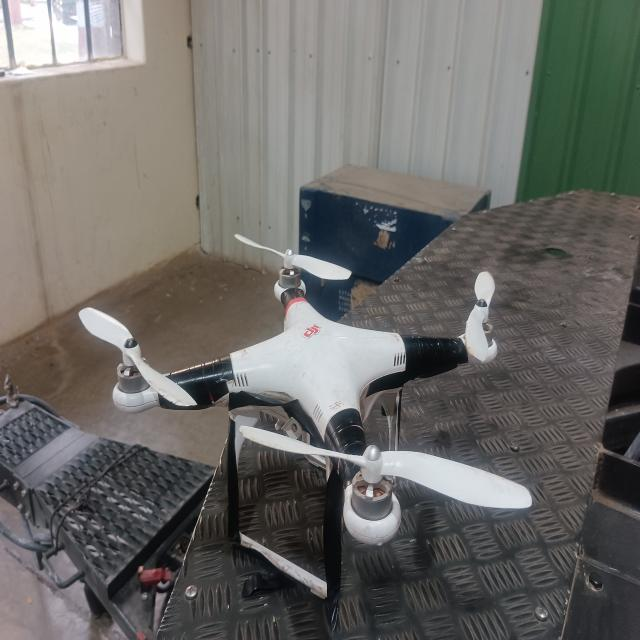drone: (60, 219, 544, 625)
